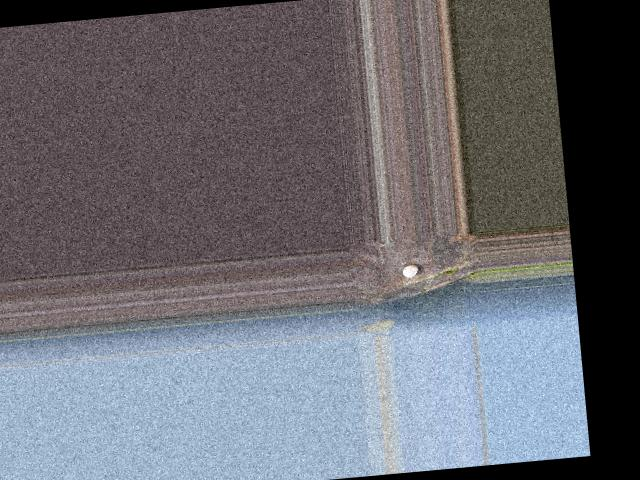egg: (401, 264, 418, 278)
